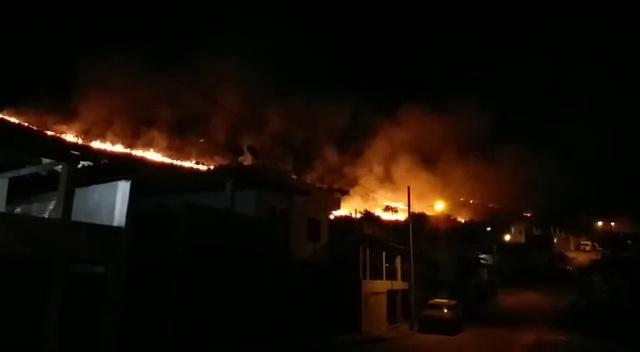fire: (135, 147, 177, 165), (88, 136, 129, 154), (378, 198, 407, 220)
smoke: (378, 135, 472, 200)
